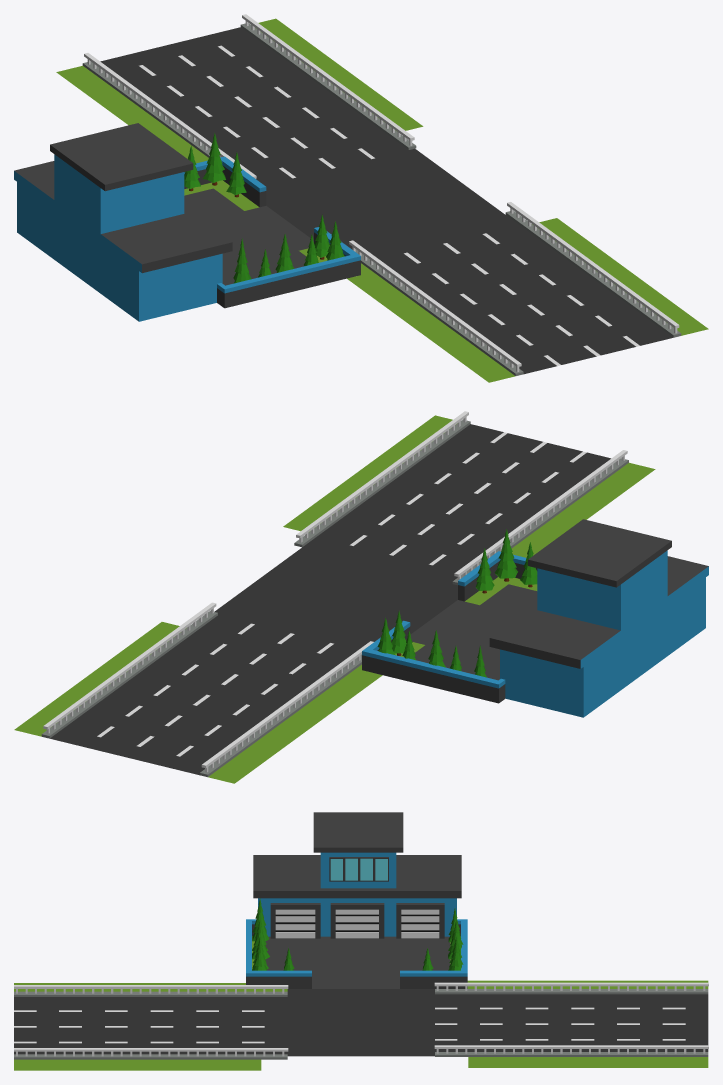
The model's file is DeliveryBuilding.fbx.
3 renders of one model, top to bottom at view 1: azimuth 30°, elevation 25°; view 2: azimuth 150°, elevation 25°; view 3: azimuth 270°, elevation 25°, orthographic. The views are drawn at different scales.
Visible parts, largest first — view 1: Plane.005, Plane.003, Cube, Plane, Cube.289, Cube.279, Cube.287, Cube.281, Cylinder.016; view 2: Plane.005, Plane.003, Cube, Plane, Cube.279, Cube.287, Cube.281, Cube.289, Cylinder.008; view 3: Plane.005, Plane.003, Cube, Plane, Cube.018, Cube.281, Cube.279, Cube.287, Cube.289, Cube.286.
Boxes of the visible parts, <box> form: Plane.005: <box>265,148,708,382</box>; Plane.003: <box>56,18,423,185</box>; Cube: <box>14,123,232,321</box>; Plane: <box>184,156,360,308</box>; Cube.289: <box>349,240,521,367</box>; Cube.279: <box>242,14,414,140</box>; Cube.287: <box>507,202,679,328</box>; Cube.281: <box>84,53,256,178</box>; Cylinder.016: <box>202,133,225,182</box>; Plane.005: <box>214,415,655,649</box>; Plane.003: <box>14,611,382,783</box>; Cube: <box>489,519,708,717</box>; Plane: <box>362,551,537,703</box>; Cube.279: <box>43,602,216,729</box>; Cube.287: <box>296,411,468,538</box>; Cube.281: <box>201,641,373,768</box>; Cube.289: <box>454,450,627,576</box>; Cylinder.008: <box>494,529,517,578</box>; Plane.005: <box>14,983,434,1070</box>; Plane.003: <box>435,980,708,1067</box>; Cube: <box>253,812,461,938</box>; Plane: <box>246,919,467,988</box>; Cube.018: <box>329,857,388,881</box>; Cube.281: <box>434,982,708,986</box>; Cube.279: <box>434,1045,708,1048</box>; Cube.287: <box>14,1048,288,1051</box>; Cube.289: <box>14,985,288,988</box>; Cube.286: <box>16,1051,284,1056</box>.
Size of the model in its own units: 10103 by 2597 by 17785.
